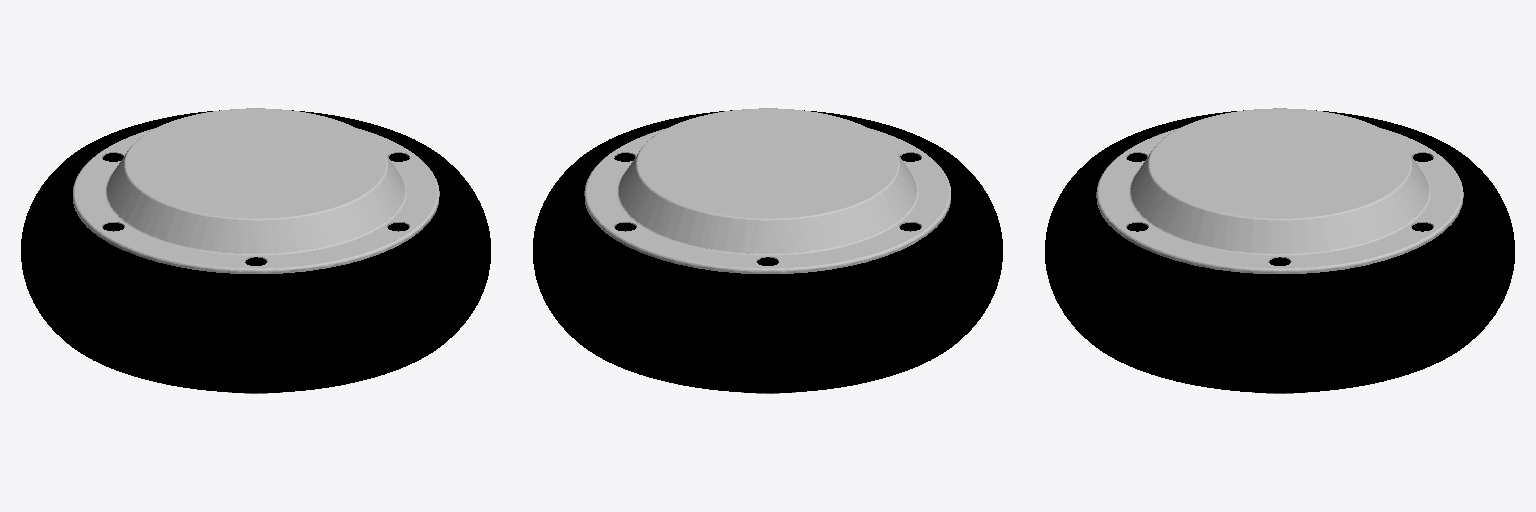
Rendered from wheel_l2.obj.
3 views of the same model, side by side, from view 1: azimuth 30°, elevation 25°; view 2: azimuth 150°, elevation 25°; view 3: azimuth 270°, elevation 25° (orthographic).
Visible parts, largest first — view 1: Mesh_0.010, Mesh_0.010_2; view 2: Mesh_0.010, Mesh_0.010_2; view 3: Mesh_0.010, Mesh_0.010_2.
Boxes of the visible parts, box(x1,y1,x2,y2) form: Mesh_0.010: box(21, 110, 490, 392); Mesh_0.010_2: box(73, 108, 439, 393); Mesh_0.010: box(533, 110, 1002, 392); Mesh_0.010_2: box(584, 108, 950, 393); Mesh_0.010: box(1045, 110, 1514, 392); Mesh_0.010_2: box(1096, 108, 1463, 393).
Bounding box in the file's own units: 0.1728 × 0.075 × 0.1729.